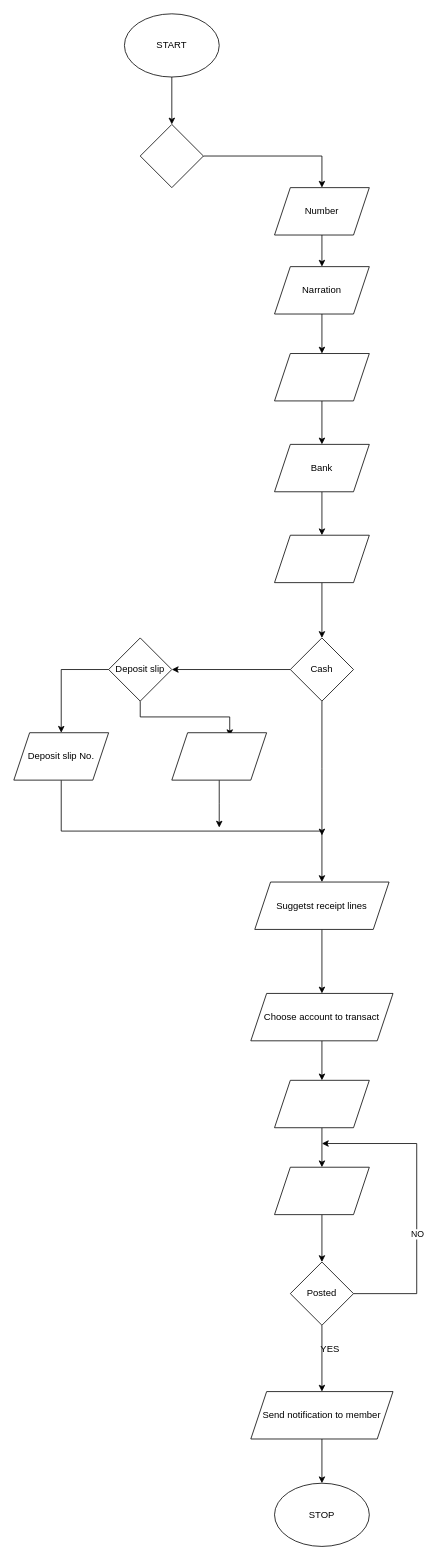
Some shapes in this 438 by 1560 pixel diagram are drawn without their labels. The centre of each missing label's shape, as x and y in pixels:
"Account type" belongs at pixel 171 156.
"Amount" belongs at pixel 321 377.
"Cheque No." belongs at pixel 219 756.
"Payment mode" belongs at pixel 321 558.
"Post" belongs at pixel 321 1190.
"Print receipt" belongs at pixel 321 1104.
